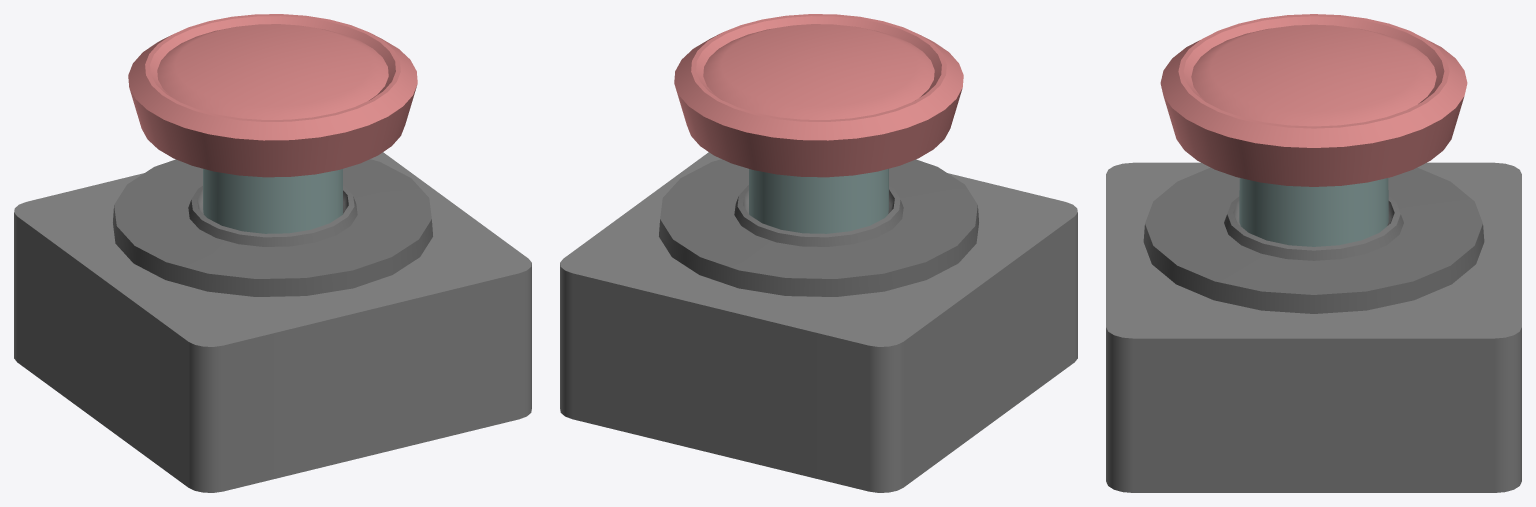
The model's file is PushButton.fbx.
3 renders of one model, left to right at view 1: azimuth 30°, elevation 25°; view 2: azimuth 150°, elevation 25°; view 3: azimuth 270°, elevation 25°, orthographic. The views are drawn at different scales.
Parts seen in each view (by area): view 1: EmergencyStopPlate, EmergencyStop; view 2: EmergencyStopPlate, EmergencyStop; view 3: EmergencyStopPlate, EmergencyStop.
Boxes of the visible parts, x1,y1,x2,y2 form: EmergencyStopPlate: [14, 152, 531, 492]; EmergencyStop: [128, 14, 417, 233]; EmergencyStopPlate: [560, 152, 1077, 492]; EmergencyStop: [674, 14, 963, 233]; EmergencyStopPlate: [1106, 162, 1521, 492]; EmergencyStop: [1160, 14, 1467, 246].
Bounding box in the file's own units: 12.76 × 11.53 × 12.76.
